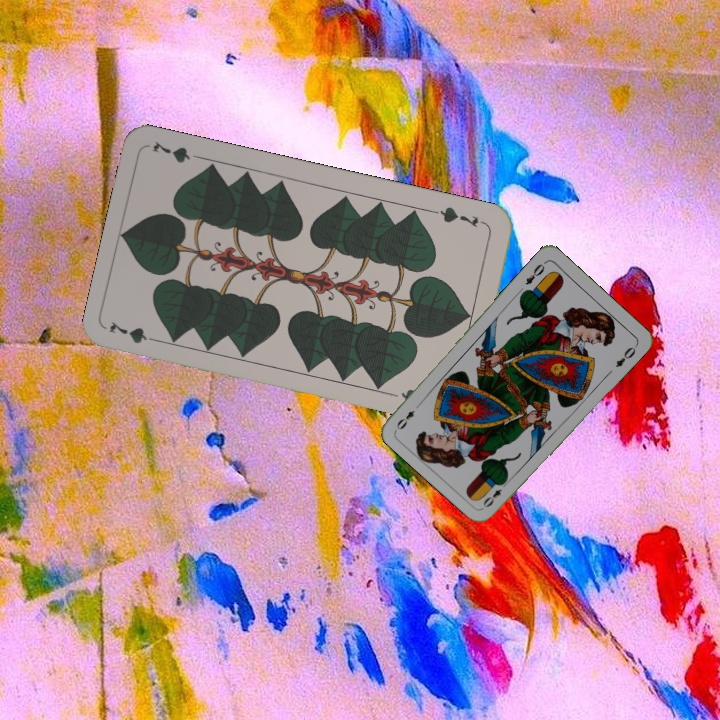EO: (479, 477, 511, 510), (521, 257, 549, 288)
G7: (105, 317, 164, 346), (430, 202, 488, 230)
